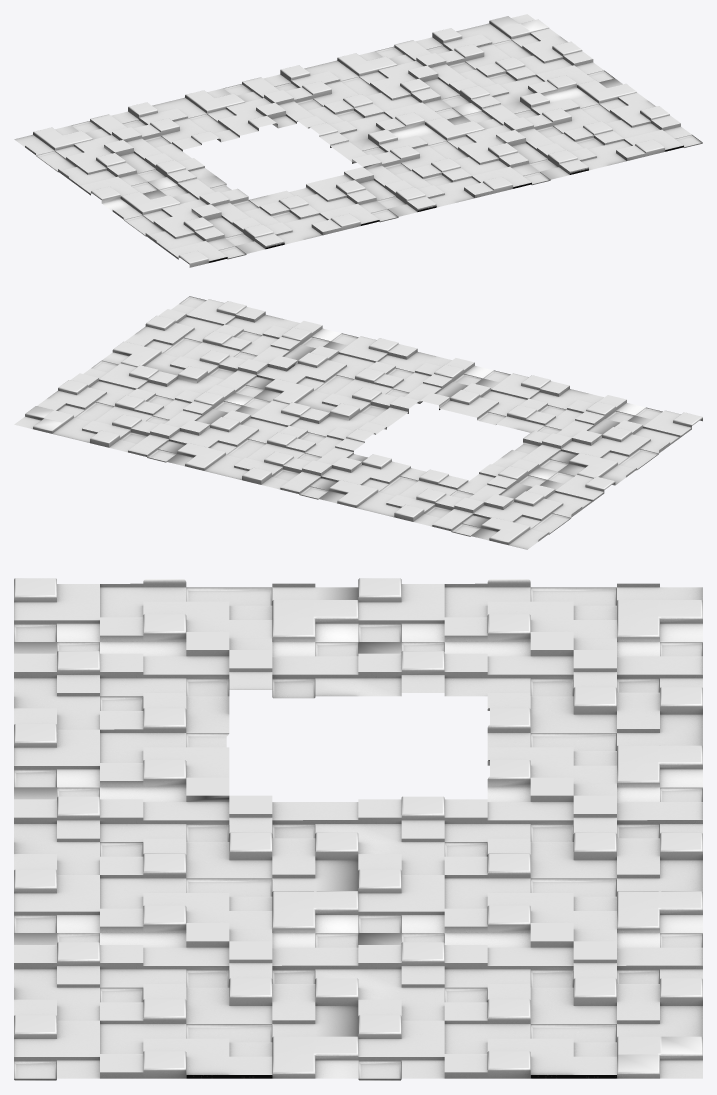
File: FonGame.fbx
3 views of the same model, one above another, from view 1: azimuth 30°, elevation 25°; view 2: azimuth 150°, elevation 25°; view 3: azimuth 270°, elevation 25° (orthographic). The views are drawn at different scales.
Visible parts, largest first — view 1: FonGame; view 2: FonGame; view 3: FonGame.
Boxes of the visible parts, left/top/right/bottom form: FonGame: left=14, top=14, right=702, bottom=267; FonGame: left=14, top=296, right=702, bottom=549; FonGame: left=14, top=578, right=702, bottom=1080.
Bounding box in the file's own units: 50.1 × 0.6157 × 29.64.
Materials: 1 (1 with a texture image).
